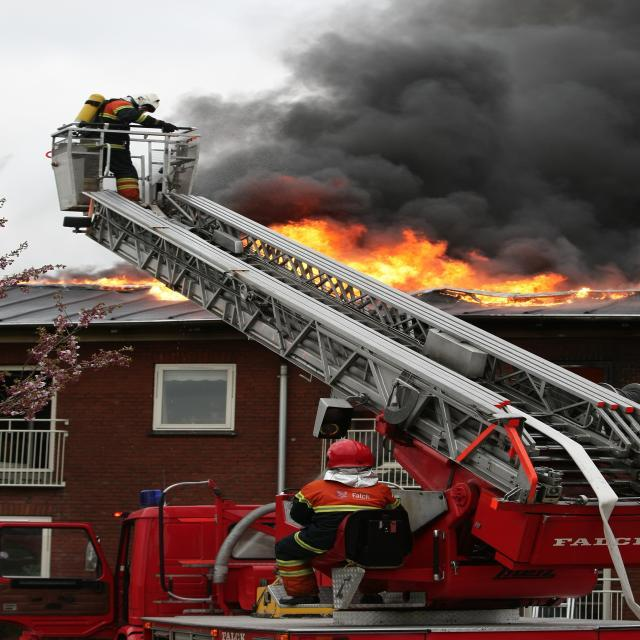Fire: (267, 218, 640, 310), (10, 266, 184, 306)
Smoke: (136, 0, 639, 218)
